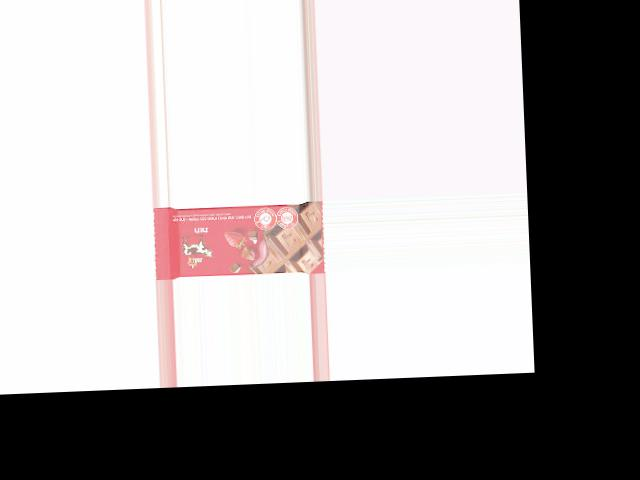chocolate: (151, 200, 323, 279)
